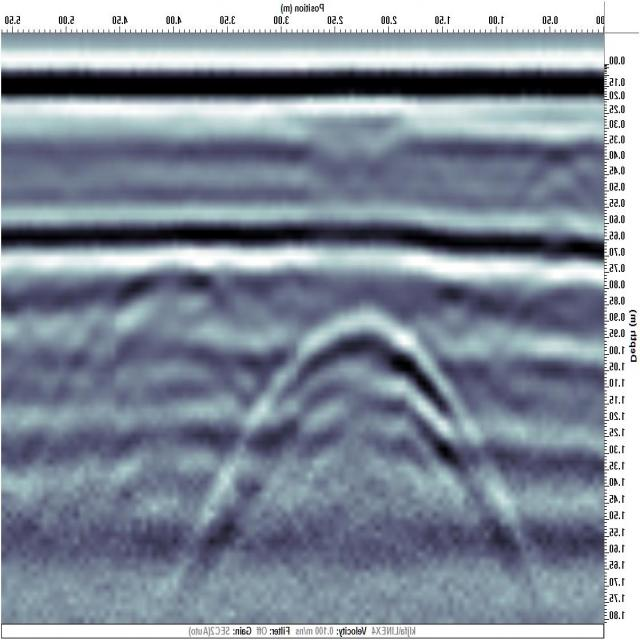hyperbola: (217, 298, 502, 544)
